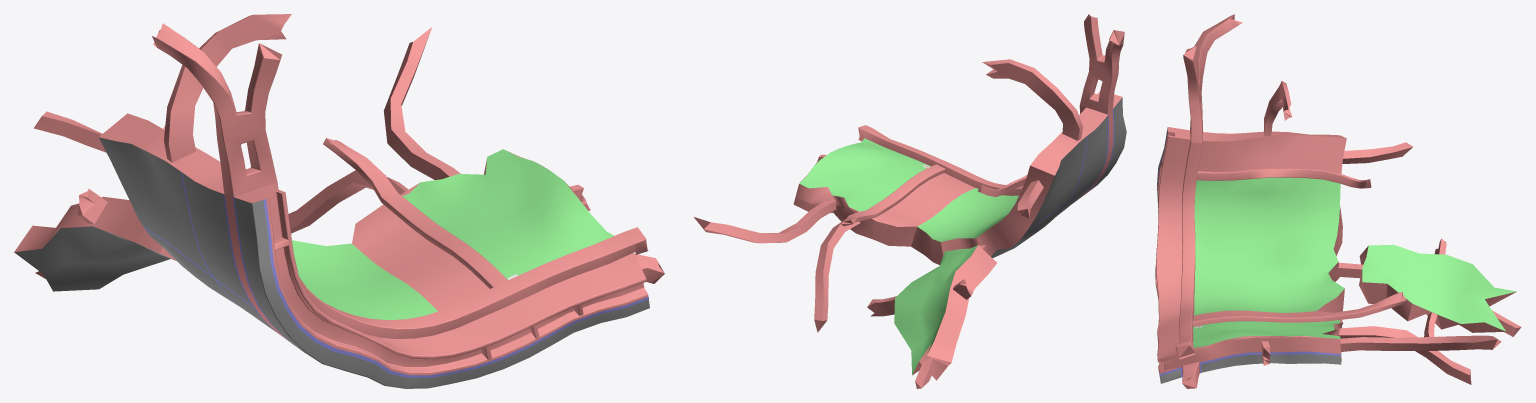
File: SM_DamagedShip07.gltf
3 views of the same model, side by side, from view 1: azimuth 30°, elevation 25°; view 2: azimuth 150°, elevation 25°; view 3: azimuth 270°, elevation 25° (orthographic). The views are drawn at different scales.
Parts seen in each view (by area): view 1: SM_DamagedShip07; view 2: SM_DamagedShip07; view 3: SM_DamagedShip07.
Part boxes in pixels (left/top/right/bottom): SM_DamagedShip07: left=14, top=14, right=664, bottom=388; SM_DamagedShip07: left=694, top=14, right=1126, bottom=388; SM_DamagedShip07: left=1155, top=14, right=1521, bottom=388.
Size of the model in its own units: 10.15 by 8.84 by 10.11.
